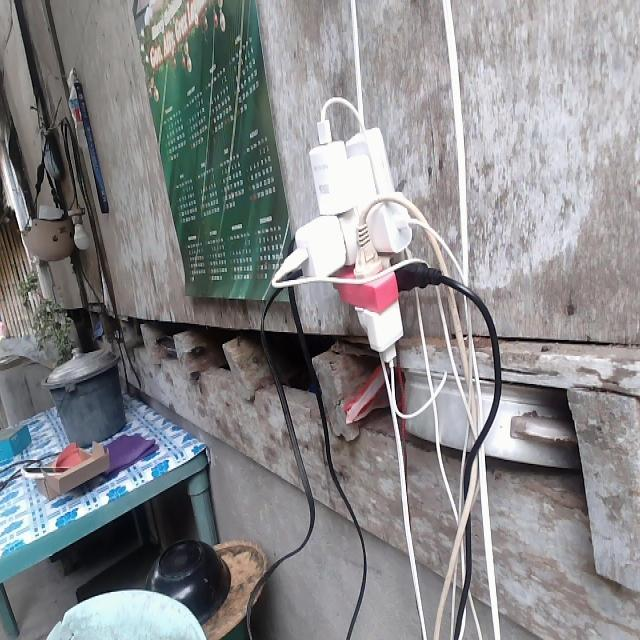-: (272, 115, 430, 360)
